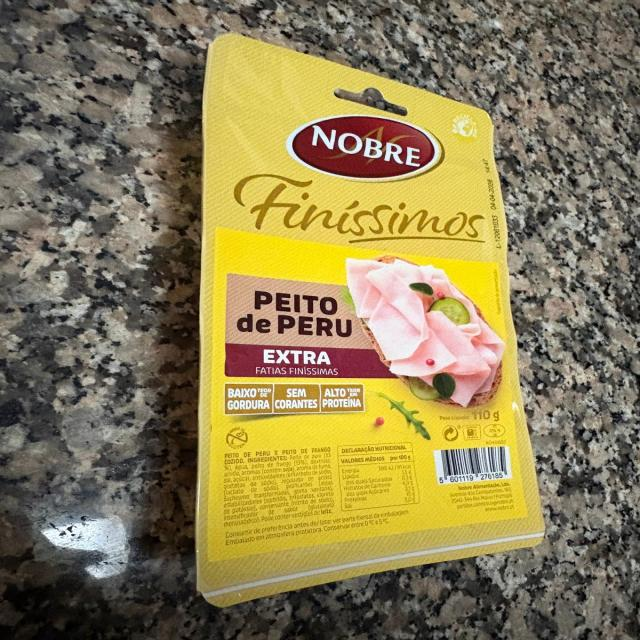good_package: (202, 33, 548, 606)
